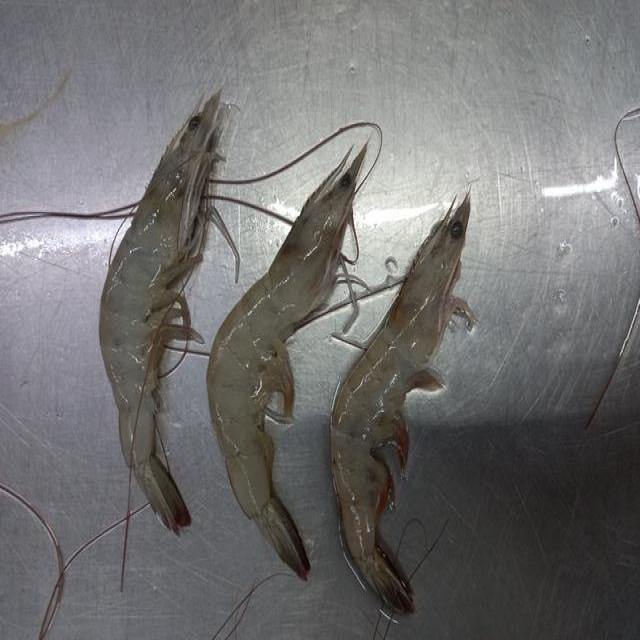shrimp: (208, 147, 366, 579), (331, 193, 475, 612), (100, 92, 219, 532)
